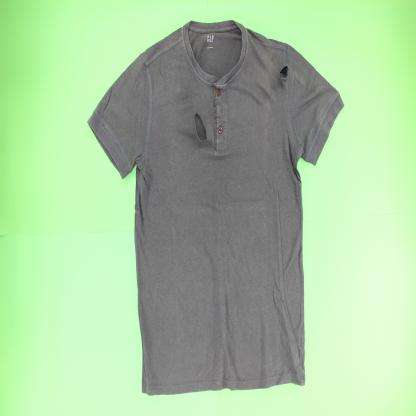hole: (193, 111, 209, 145), (277, 63, 291, 81)
